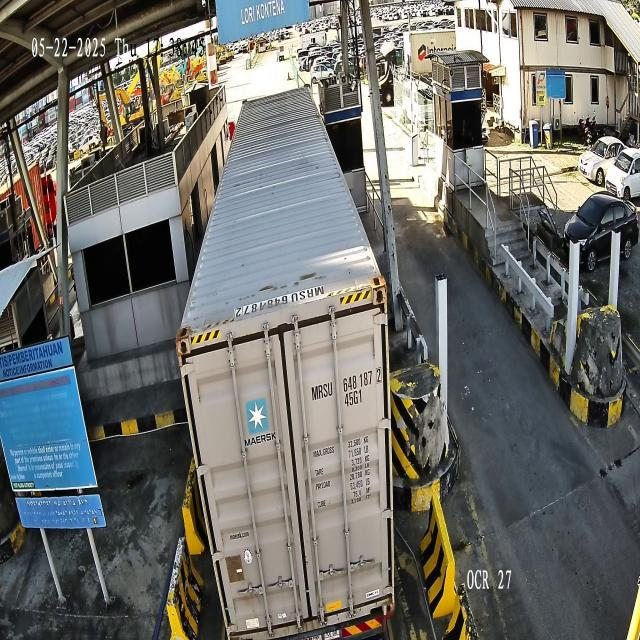ISO: (344, 388, 362, 408)
container_number: (310, 366, 382, 403)
